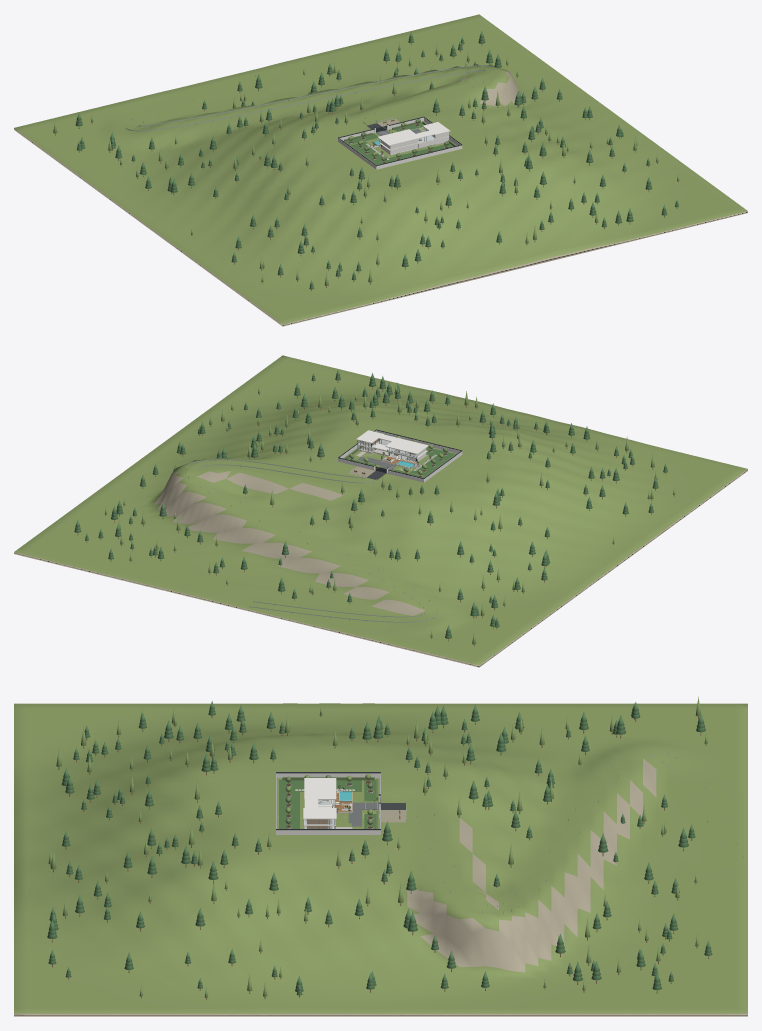
The model's file is villa_land.glb.
3 views of the same model, one above another, from view 1: azimuth 30°, elevation 25°; view 2: azimuth 150°, elevation 25°; view 3: azimuth 270°, elevation 25° (orthographic). The views are drawn at different scales.
Parts seen in each view (by area): view 1: Rolling summit hillside and rugged road cuts, Deep pine foliage landscape details, Cypress olive foliage landscape details, Weathered bench timber landscape details; view 2: Rolling summit hillside and rugged road cuts, Deep pine foliage landscape details, Cypress olive foliage landscape details, Weathered bench timber landscape details; view 3: Rolling summit hillside and rugged road cuts, Deep pine foliage landscape details, Cypress olive foliage landscape details, Weathered bench timber landscape details, Rear garden lawn, Floating white roof.
Part boxes in pixels (<box>): Rolling summit hillside and rugged road cuts: <box>14,14,747,326</box>; Deep pine foliage landscape details: <box>75,31,678,289</box>; Cypress olive foliage landscape details: <box>53,42,679,285</box>; Weathered bench timber landscape details: <box>55,43,678,290</box>; Rolling summit hillside and rugged road cuts: <box>14,355,747,667</box>; Deep pine foliage landscape details: <box>74,369,667,638</box>; Cypress olive foliage landscape details: <box>105,382,675,644</box>; Weathered bench timber landscape details: <box>77,381,674,646</box>; Rolling summit hillside and rugged road cuts: <box>14,703,747,1016</box>; Deep pine foliage landscape details: <box>47,701,712,995</box>; Cypress olive foliage landscape details: <box>48,696,707,997</box>; Weathered bench timber landscape details: <box>50,715,708,999</box>; Rear garden lawn: <box>279,779,299,828</box>; Floating white roof: <box>304,778,336,799</box>.
Size of what is drawn, in the model's own units: 350 by 41.51 by 350.
